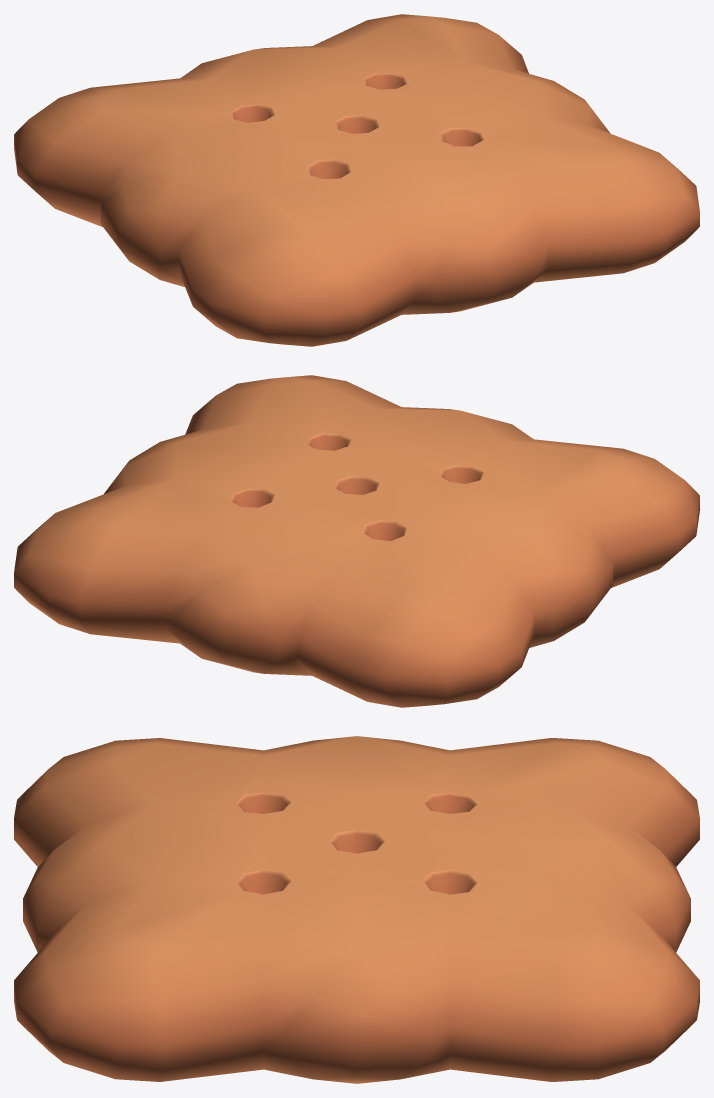
The model's file is Biscuits_V1_00.fbx.
3 renders of one model, top to bottom at view 1: azimuth 30°, elevation 25°; view 2: azimuth 150°, elevation 25°; view 3: azimuth 270°, elevation 25°, orthographic. The views are drawn at different scales.
Parts seen in each view (by area): view 1: Biscuits_V1_00; view 2: Biscuits_V1_00; view 3: Biscuits_V1_00.
Part boxes in pixels (x1=…): Biscuits_V1_00: x1=14, y1=14, x2=699, y2=346; Biscuits_V1_00: x1=14, y1=375, x2=699, y2=707; Biscuits_V1_00: x1=14, y1=736, x2=699, y2=1083.
Size of the model in its own units: 23.66 by 5.77 by 23.66.
